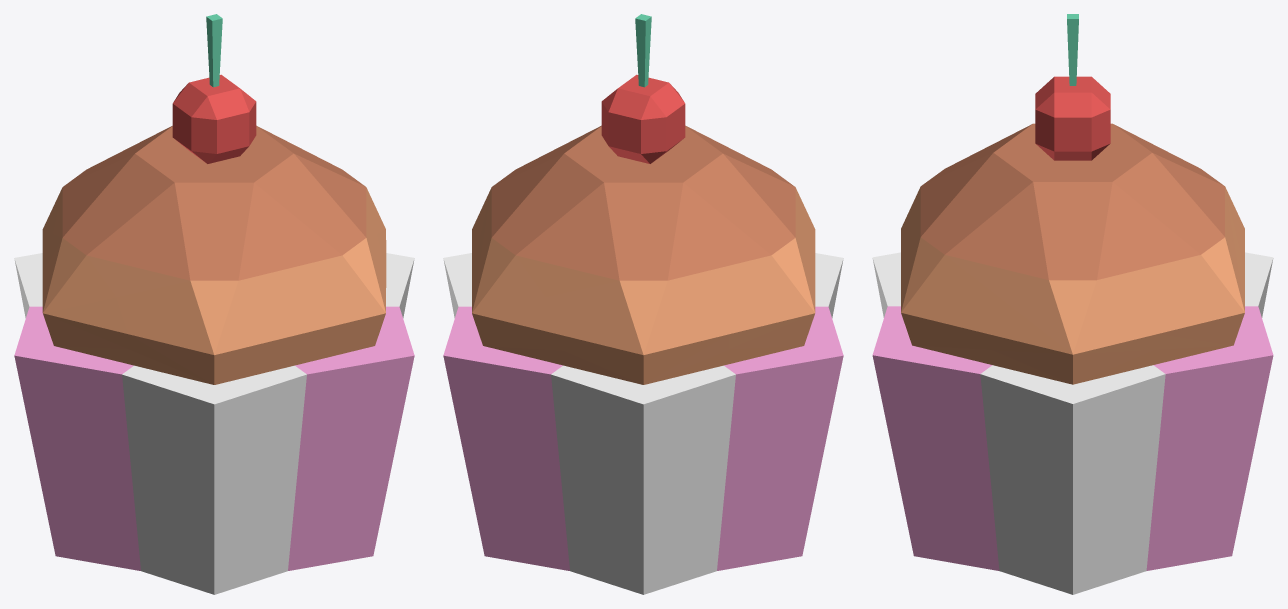
Rendered from cupcake.glb.
3 renders of one model, left to right at view 1: azimuth 30°, elevation 25°; view 2: azimuth 150°, elevation 25°; view 3: azimuth 270°, elevation 25°, orthographic.
Bounding box in the file's own units: 0.3552 × 0.4238 × 0.3076.
